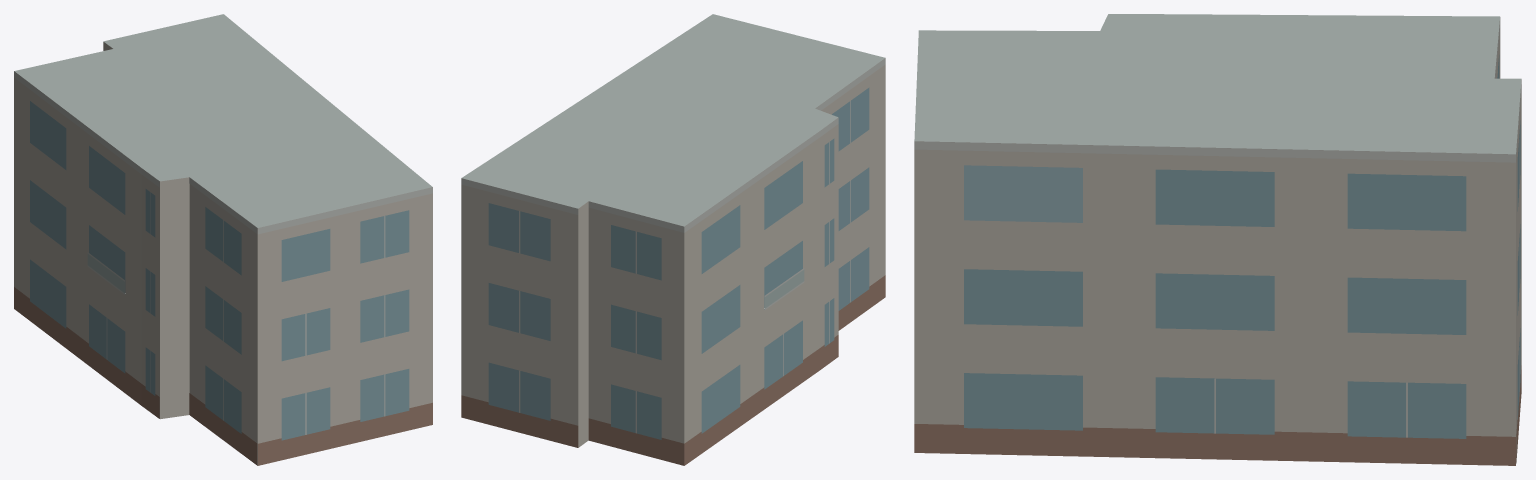
File: survey-upis-32641386.glb
3 views of the same model, side by side, from view 1: azimuth 30°, elevation 25°; view 2: azimuth 150°, elevation 25°; view 3: azimuth 270°, elevation 25° (orthographic). The views are drawn at different scales.
Visible parts, largest first — view 1: survey-upis-32641386.tmp; view 2: survey-upis-32641386.tmp; view 3: survey-upis-32641386.tmp.
Part boxes in pixels (bbox=[...]): survey-upis-32641386.tmp: bbox=[14, 14, 432, 465]; survey-upis-32641386.tmp: bbox=[461, 14, 885, 465]; survey-upis-32641386.tmp: bbox=[914, 14, 1521, 465].
Bounding box in the file's own units: 8.86 × 9.15 × 16.17.
